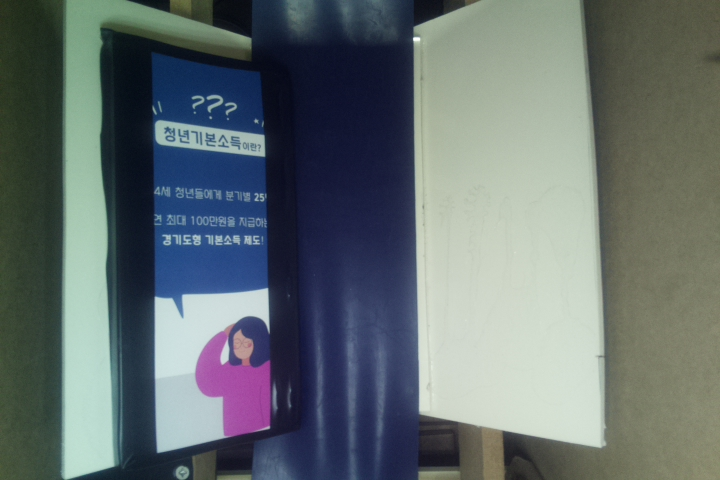book: (102, 27, 305, 472)
